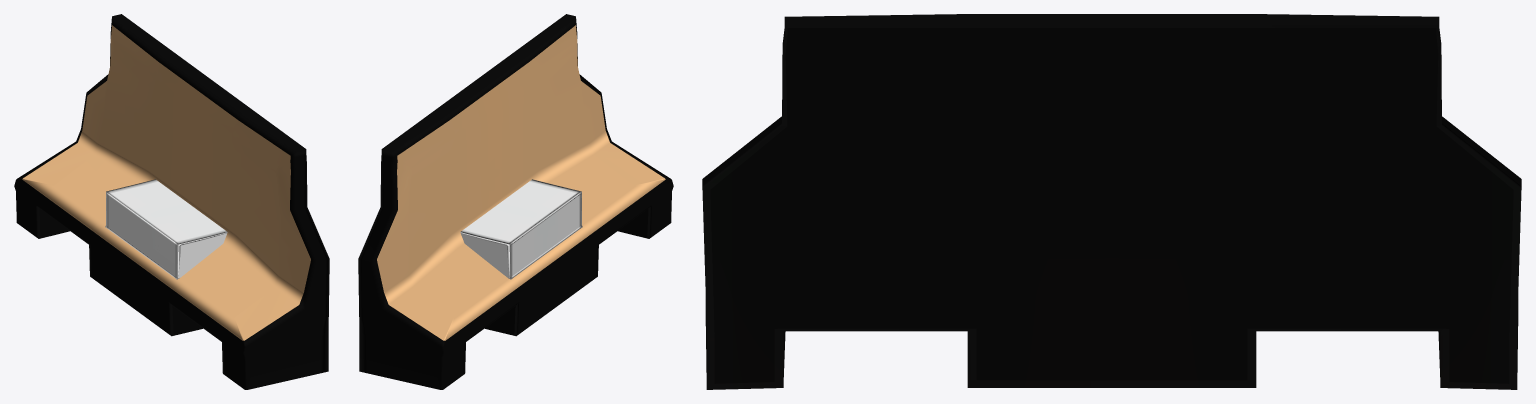
The model's file is AssentoFrenteCarro.fbx.
The picture shows the model from 3 angles, left to right: view 1: azimuth 30°, elevation 25°; view 2: azimuth 150°, elevation 25°; view 3: azimuth 270°, elevation 25°; orthographic projection. The views are drawn at different scales.
Parts seen in each view (by area): view 1: AssentoFrenteCarro; view 2: AssentoFrenteCarro; view 3: AssentoFrenteCarro.
Part boxes in pixels (box(x1,y1,x2,y2)): AssentoFrenteCarro: box(14, 14, 329, 389); AssentoFrenteCarro: box(358, 14, 673, 389); AssentoFrenteCarro: box(702, 14, 1521, 389).
Bounding box in the file's own units: 34.2 × 78.51 × 160.
